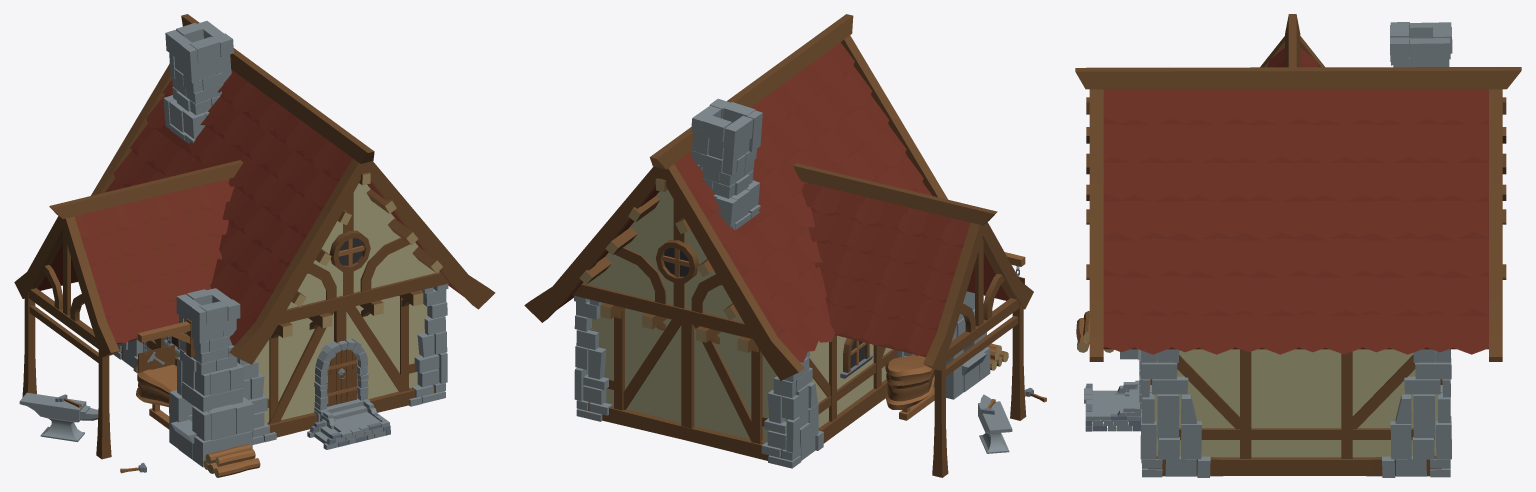
The model's file is Blacksmith.glb.
The picture shows the model from 3 angles, left to right: view 1: azimuth 30°, elevation 25°; view 2: azimuth 150°, elevation 25°; view 3: azimuth 270°, elevation 25°; orthographic projection. The views are drawn at different scales.
Visible parts, largest first — view 1: Blacksmith; view 2: Blacksmith; view 3: Blacksmith.
Part boxes in pixels (bbox=[...]): Blacksmith: bbox=[14, 14, 495, 477]; Blacksmith: bbox=[524, 14, 1046, 477]; Blacksmith: bbox=[1075, 14, 1521, 477].
Bounding box in the file's own units: 3.89 × 3 × 3.28.
